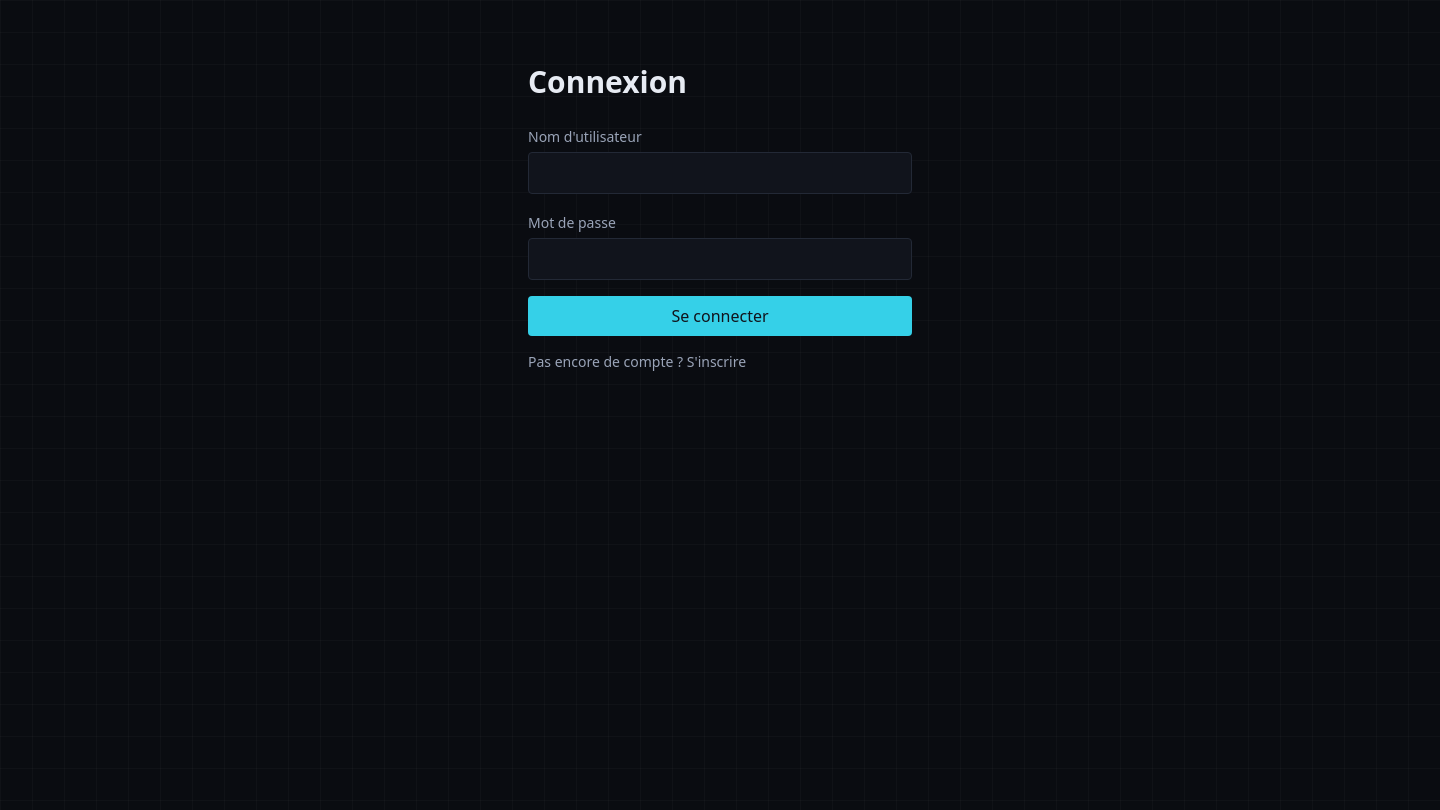
Test: AuthForm › indique des identifiants faux en francais
The image size is (1440, 810).
In the field labelled "Nom d'utilisateur": coordinates (720, 173) [528,152,912,194], type "ange"
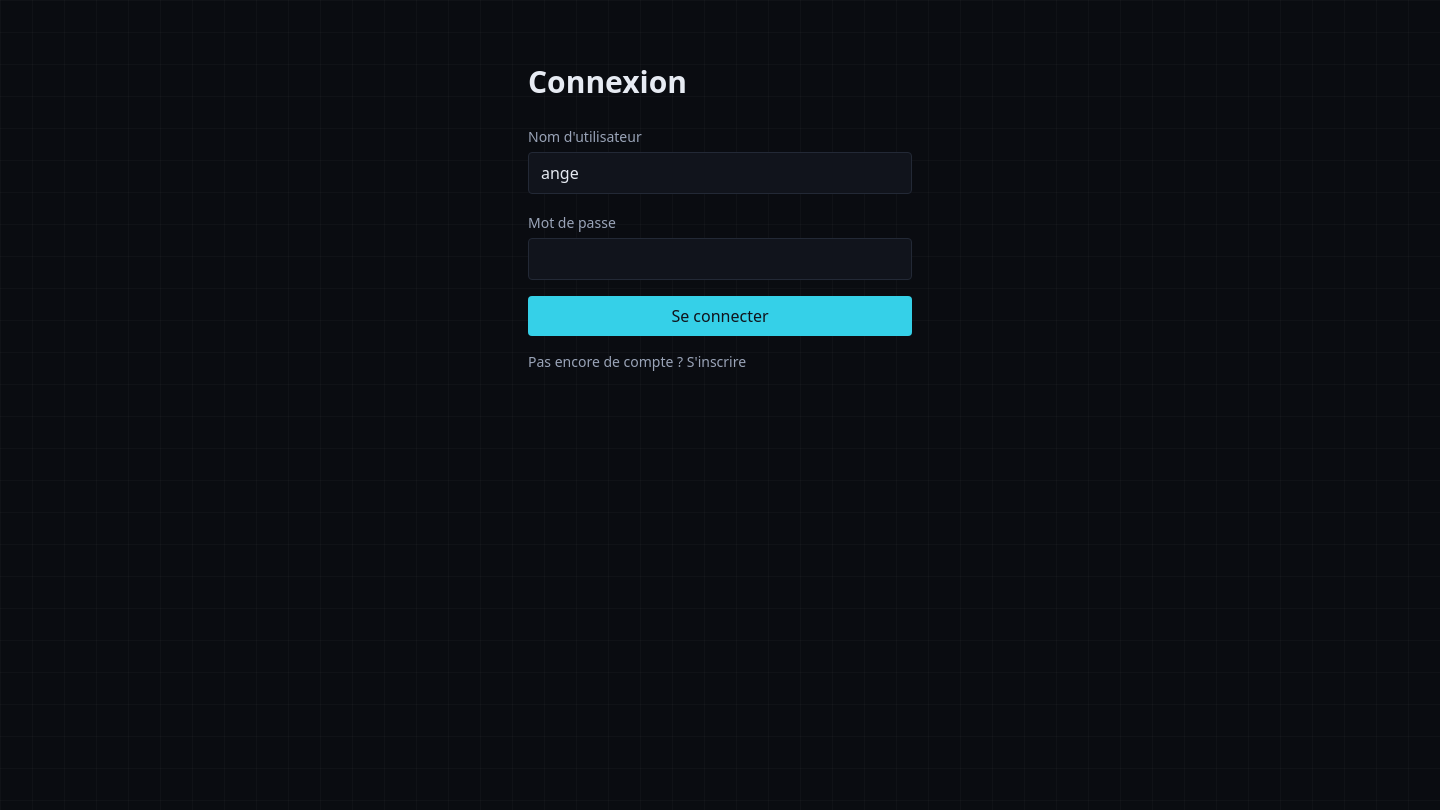
In the password field labelled "Mot de passe": coordinates (720, 259) [528,238,912,280], type "mauvais"
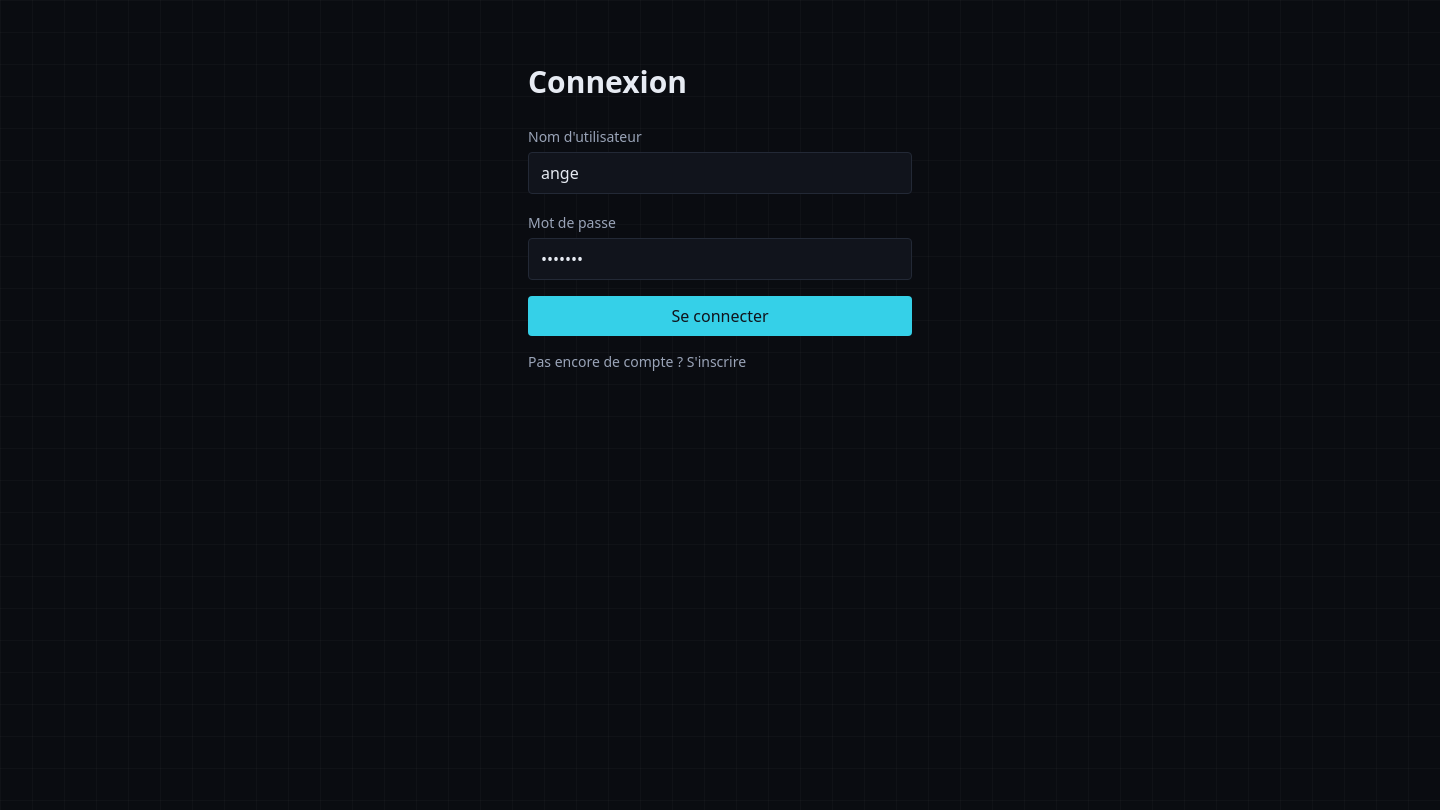
Click the button "Se connecter": coordinates (720, 316) [528,296,912,336]
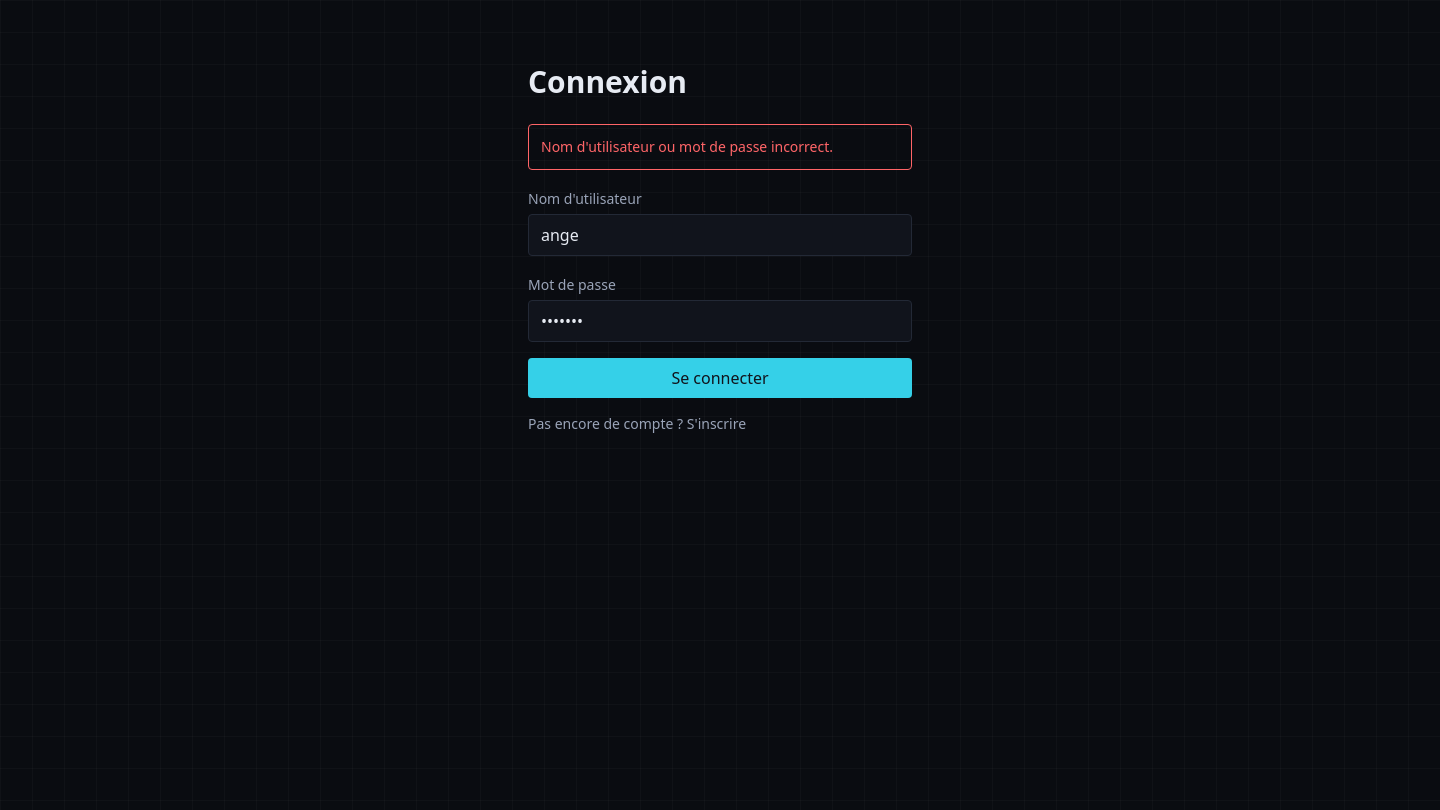
Check: the message reads "Nom d'utilisateur ou mot de passe incorrect.", box [541,137,833,156]
